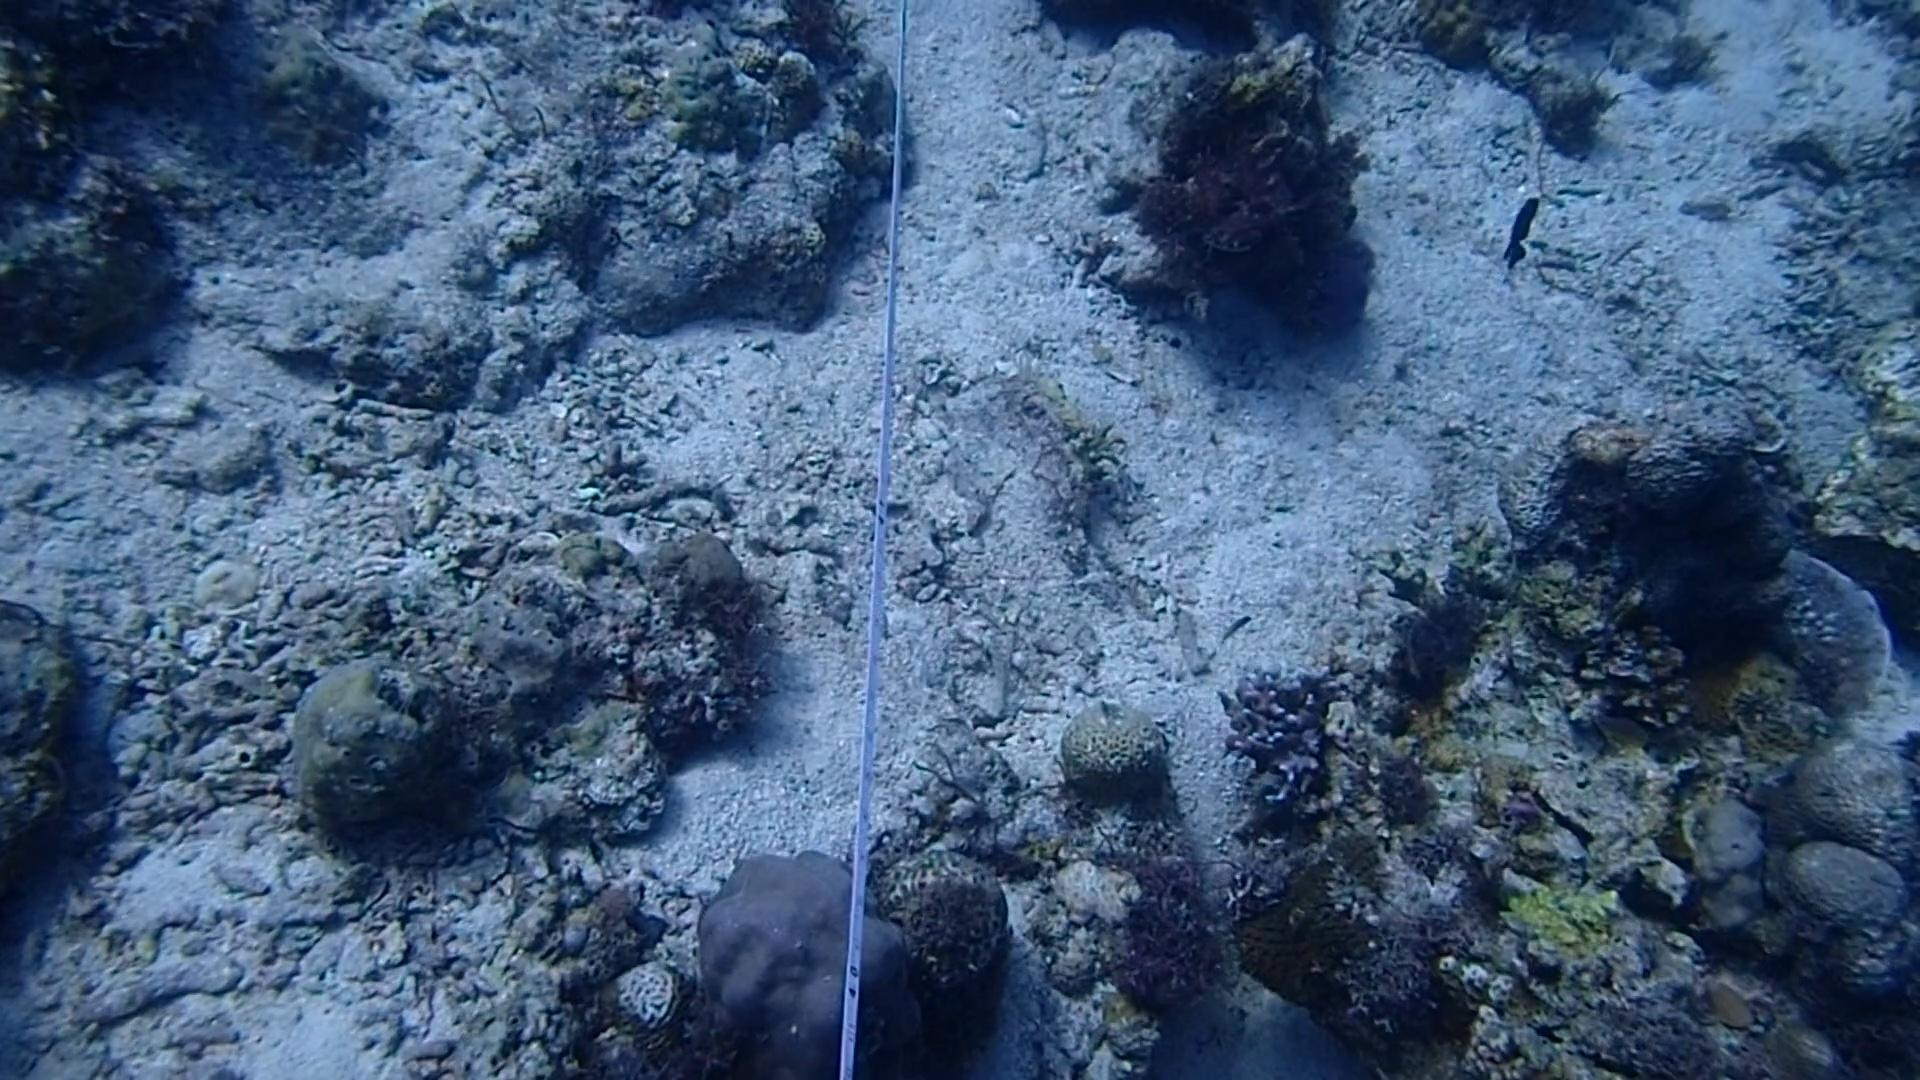Dark Fish: (1497, 185, 1555, 284)
